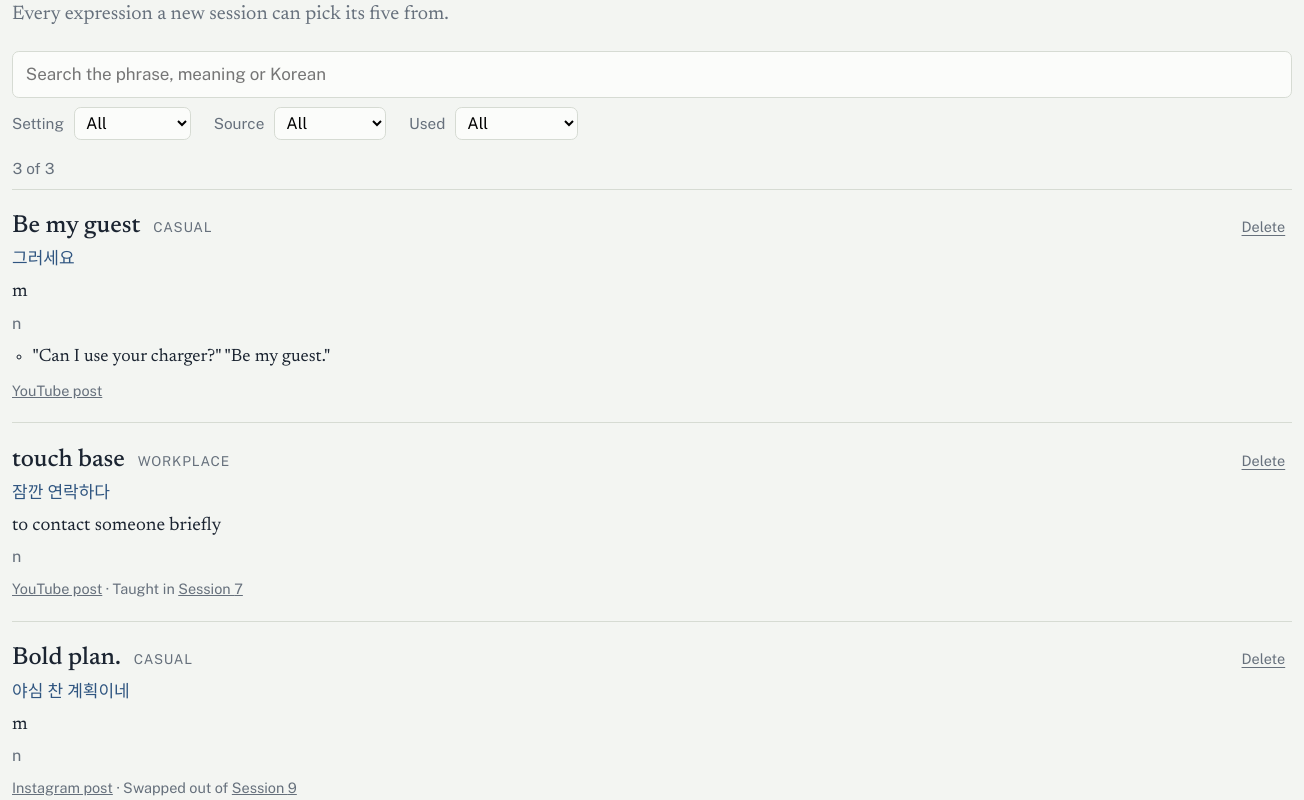
it: keeps the expression and says so when the delete fails
Check: the heading "Be my guest" is shown, box 12,212 -> 140,242
Click the button with aria-label "Delete Be my guest": (1263, 227) 1235,211 -> 1292,243
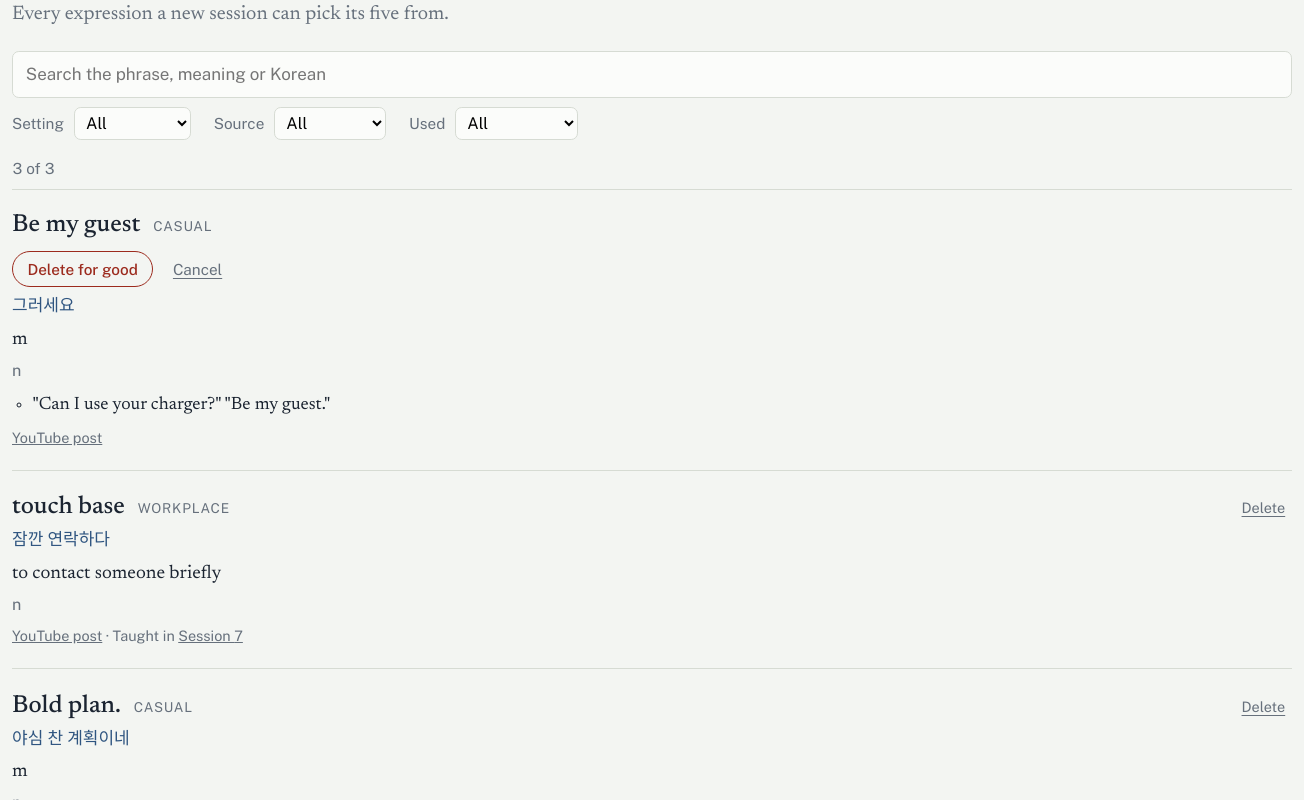
Click the button "Delete for good": (83, 269) 12,251 -> 153,286
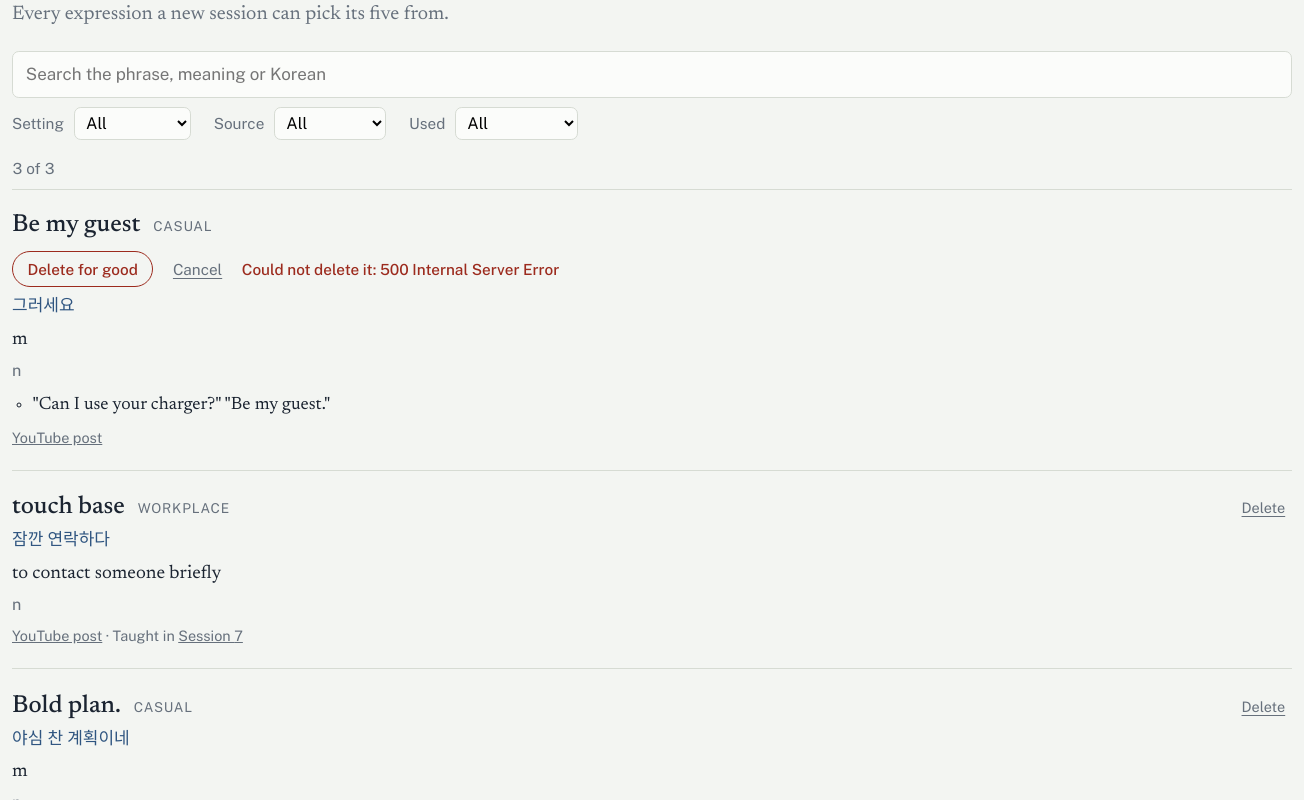
Check: the heading "Be my guest" is shown, box 12,211 -> 140,240
Check: the text "Could not delete it: 500 Internal Server Error" is shown, box 242,258 -> 559,280
